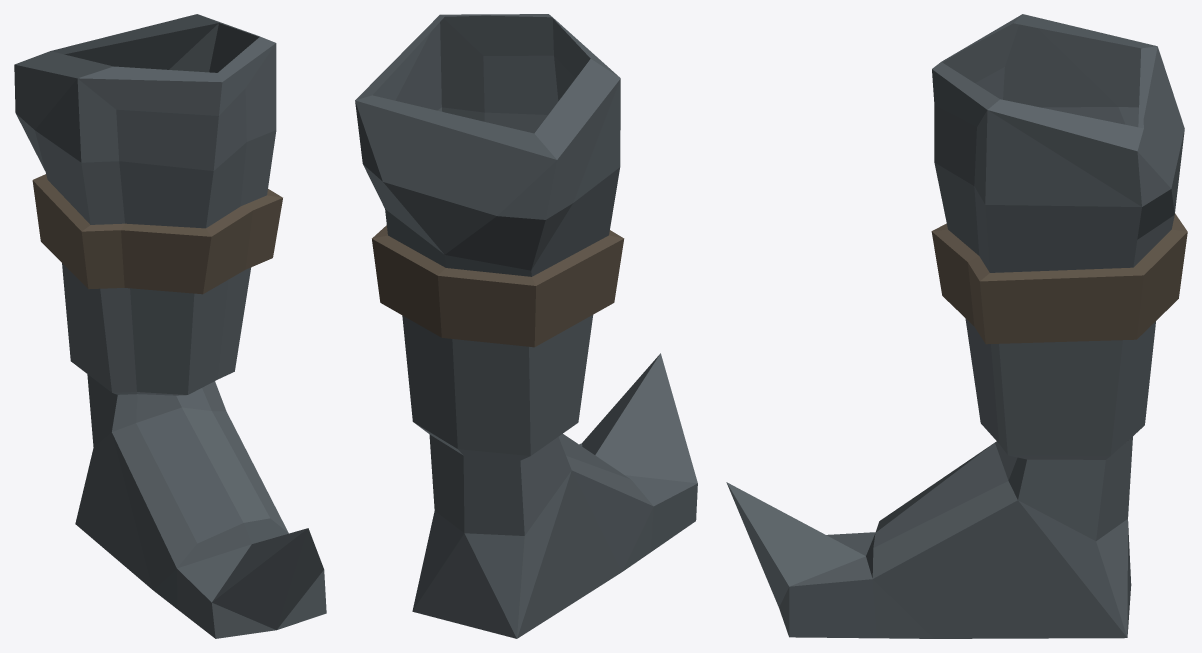
The model's file is Chr_LegLeft_Male_02_Static.fbx.
3 renders of one model, left to right at view 1: azimuth 30°, elevation 25°; view 2: azimuth 150°, elevation 25°; view 3: azimuth 270°, elevation 25°, orthographic. The views are drawn at different scales.
Parts seen in each view (by area): view 1: Chr_LegLeft_Male_02_Static; view 2: Chr_LegLeft_Male_02_Static; view 3: Chr_LegLeft_Male_02_Static.
Part boxes in pixels (box(x1,y1,x2,y2)): Chr_LegLeft_Male_02_Static: box(14, 14, 326, 638); Chr_LegLeft_Male_02_Static: box(355, 14, 697, 638); Chr_LegLeft_Male_02_Static: box(726, 14, 1187, 638).
Bounding box in the file's own units: 0.1656 × 0.4045 × 0.3056.
